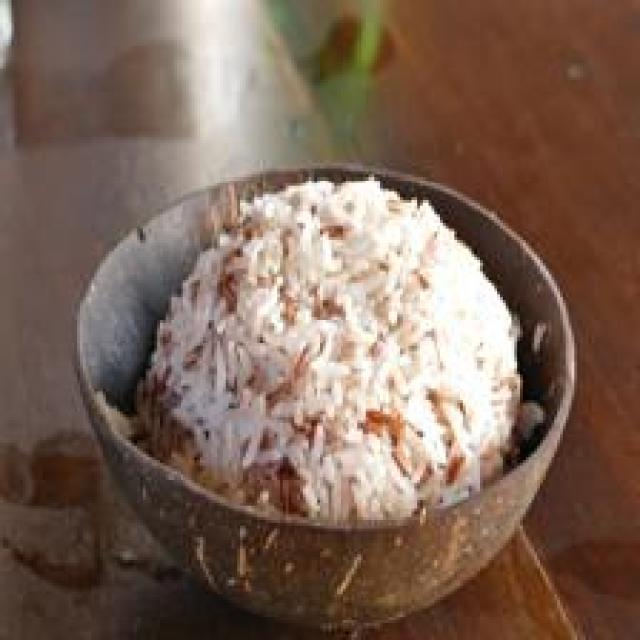Wet Waste: (137, 183, 529, 543)
